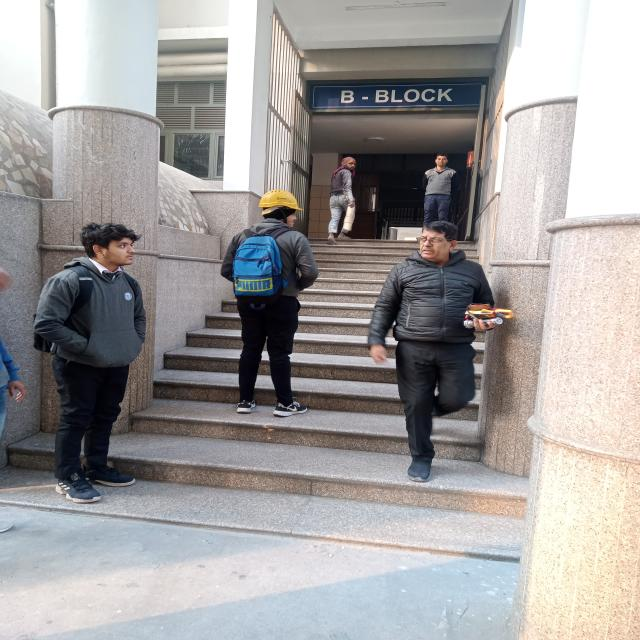no jacket: (212, 188, 326, 415)
unsafe: (366, 220, 503, 482), (34, 219, 154, 506), (325, 152, 359, 246), (419, 152, 458, 228)
